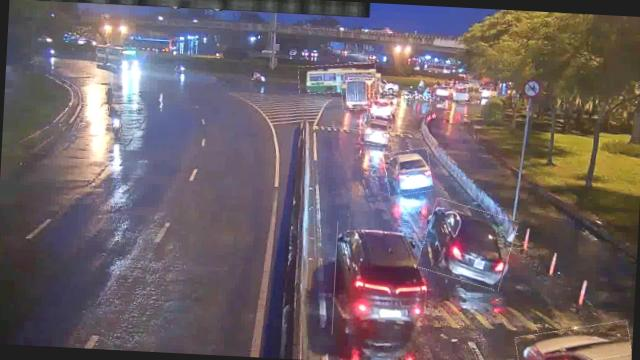Bike: (105, 105, 123, 137)
Bus: (298, 62, 378, 96), (429, 85, 454, 111), (448, 84, 474, 104)
Car: (332, 221, 431, 340), (419, 201, 515, 287), (515, 320, 632, 360), (384, 147, 434, 196), (360, 112, 392, 146), (368, 95, 394, 117)
Truck: (340, 78, 375, 110)
